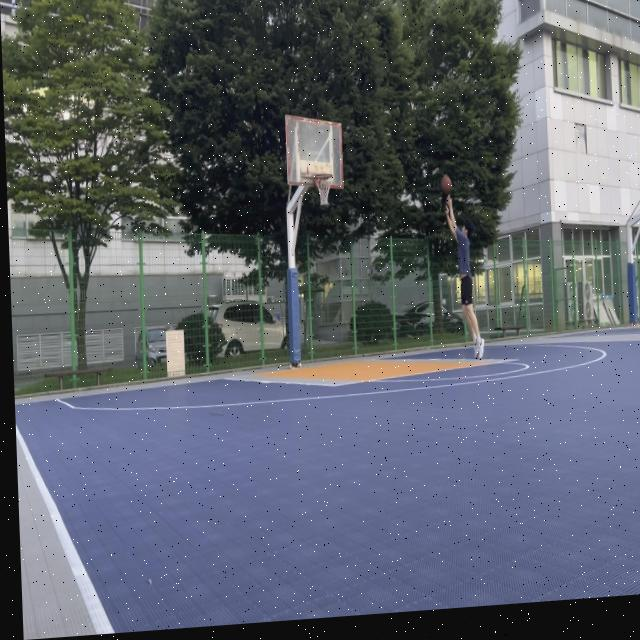basketball: (440, 172, 453, 195)
hoop: (315, 172, 334, 207)
